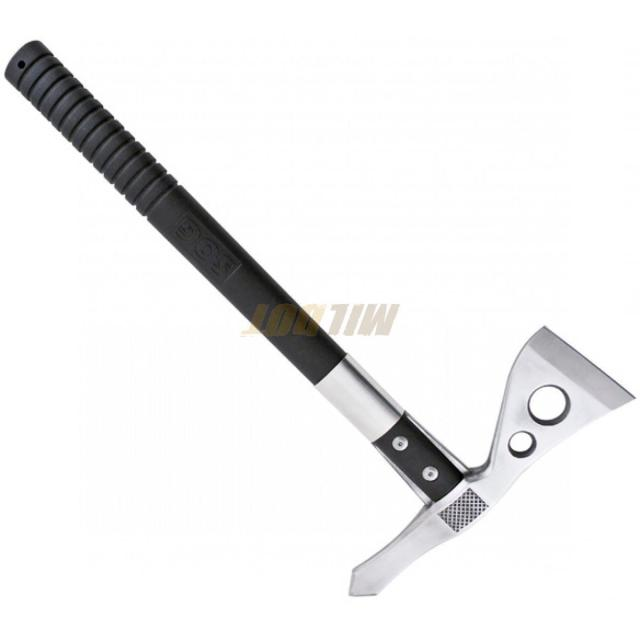Kapak: (0, 28, 638, 602)
